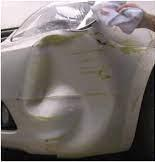dent: (23, 17, 128, 150)
